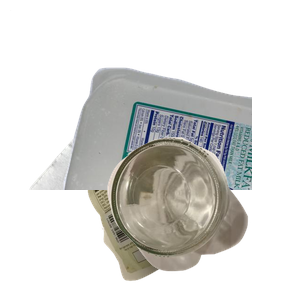glass: (105, 135, 300, 300)
paper: (10, 10, 250, 190)
plastic: (60, 65, 300, 245)
trash: (84, 126, 291, 300)
